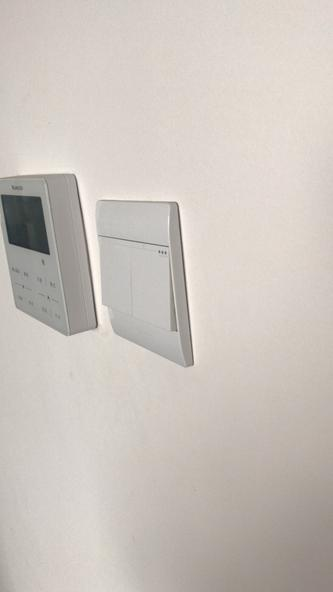switch: (127, 233, 180, 336), (94, 228, 142, 320)
